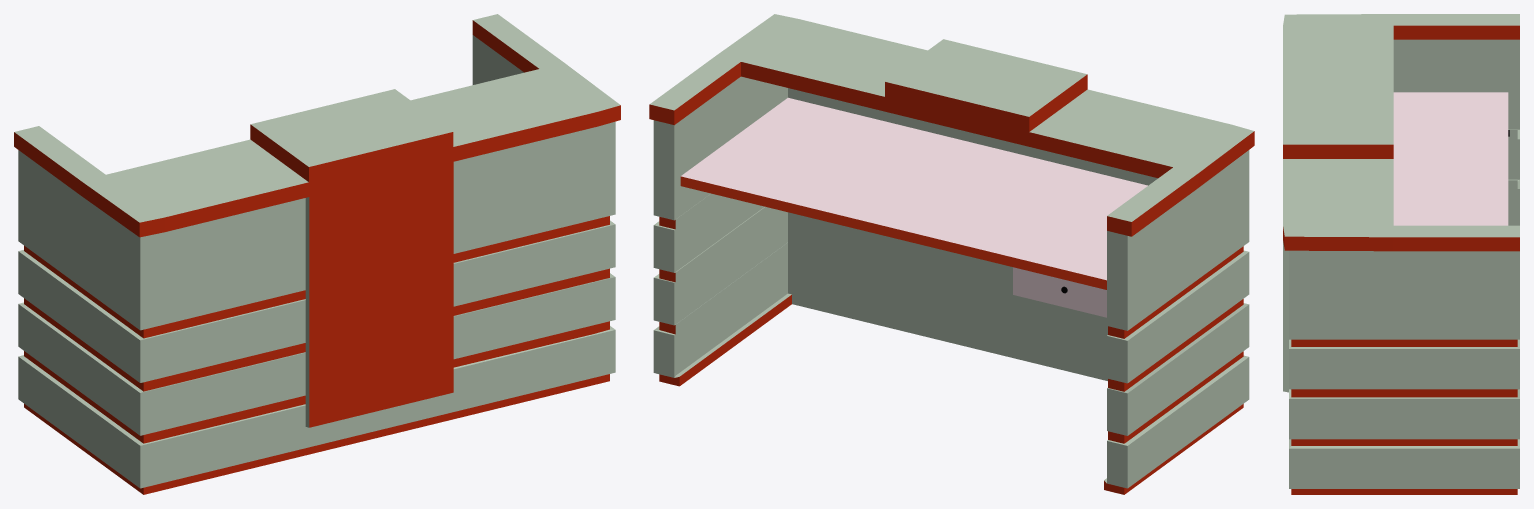
Rendered from Meja resepsionis.obj.
The picture shows the model from 3 angles, left to right: view 1: azimuth 30°, elevation 25°; view 2: azimuth 150°, elevation 25°; view 3: azimuth 270°, elevation 25°; orthographic projection. The views are drawn at different scales.
Visible parts, largest first — view 1: Cube; view 2: Cube, Plane; view 3: Cube, Plane.
Part boxes in pixels (<box>): Cube: <box>14,14,620,494</box>; Cube: <box>649,14,1254,494</box>; Plane: <box>680,97,1147,317</box>; Cube: <box>1283,14,1519,494</box>; Plane: <box>1393,92,1508,225</box>.
Bounding box in the file's own units: 1.88 × 1.09 × 0.8442.
